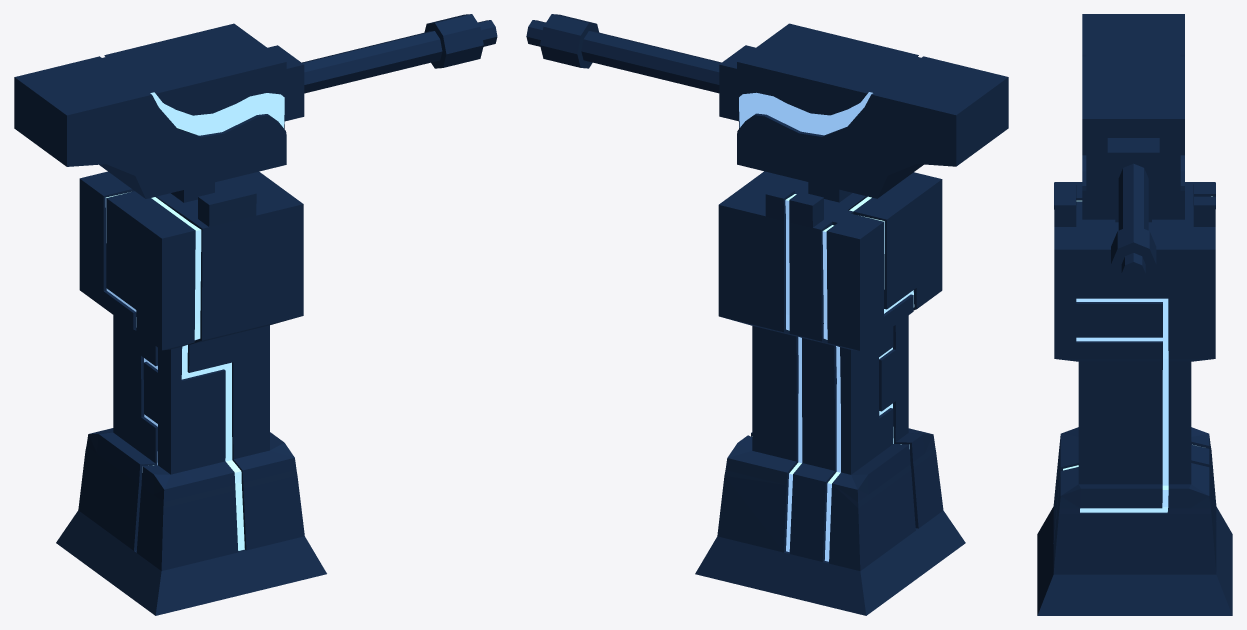
The model's file is башня 1.fbx.
3 renders of one model, left to right at view 1: azimuth 30°, elevation 25°; view 2: azimuth 150°, elevation 25°; view 3: azimuth 270°, elevation 25°, orthographic. The views are drawn at different scales.
Visible parts, largest first — view 1: Cube, Cube.001; view 2: Cube, Cube.001; view 3: Cube, Cube.001.
Part boxes in pixels (<box>): Cube: <box>56,171,326,615</box>; Cube.001: <box>14,14,497,202</box>; Cube: <box>695,171,965,615</box>; Cube.001: <box>526,14,1008,202</box>; Cube: <box>1037,182,1232,615</box>; Cube.001: <box>1082,14,1184,286</box>.
Size of the model in its own units: 217 by 230 by 83.34.
